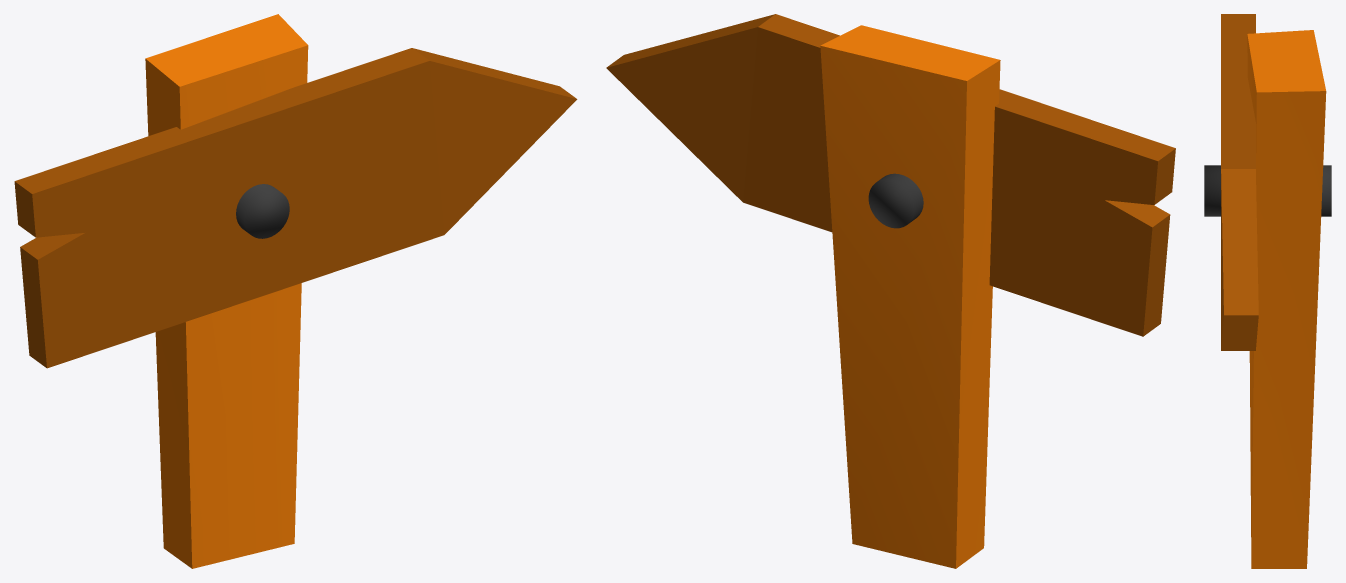
Rendered from Sign.fbx.
3 renders of one model, left to right at view 1: azimuth 30°, elevation 25°; view 2: azimuth 150°, elevation 25°; view 3: azimuth 270°, elevation 25°, orthographic. The views are drawn at different scales.
Parts seen in each view (by area): view 1: Sign; view 2: Sign; view 3: Sign.
Boxes of the visible parts, x1,y1,x2,y2 form: Sign: [14, 14, 577, 568]; Sign: [606, 14, 1175, 568]; Sign: [1204, 14, 1331, 568].
Bounding box in the file's own units: 1.53 × 0.3132 × 1.33.
